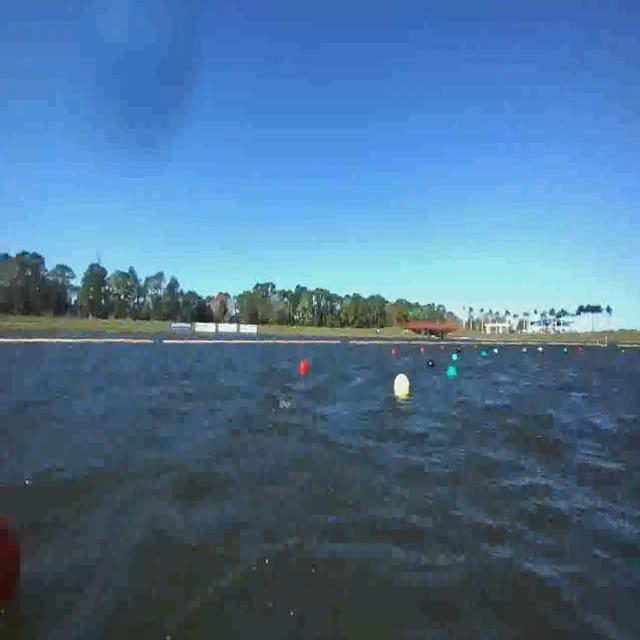black-buoy: (426, 358, 435, 368)
green-buoy: (448, 364, 458, 377), (449, 354, 456, 362)
red-buoy: (301, 360, 310, 373)
yellow-buoy: (396, 372, 412, 397)
